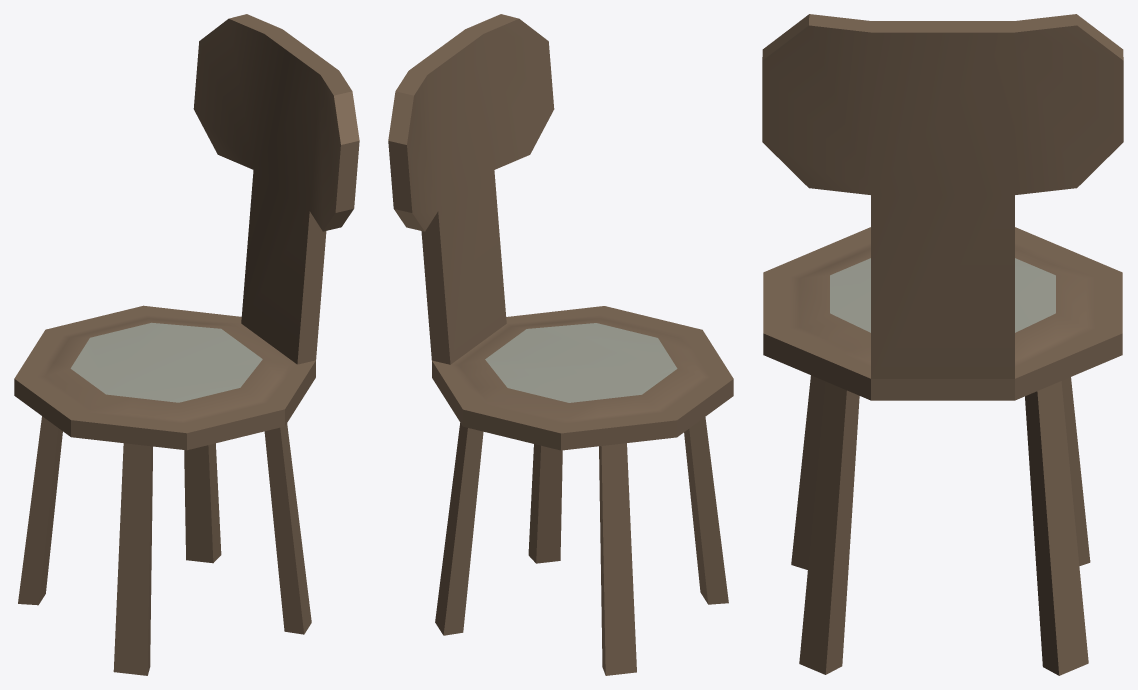
Rendered from Chair_v01.fbx.
3 views of the same model, side by side, from view 1: azimuth 30°, elevation 25°; view 2: azimuth 150°, elevation 25°; view 3: azimuth 270°, elevation 25° (orthographic). The views are drawn at different scales.
Parts seen in each view (by area): view 1: chair_bottom_geo, chair_top_geo; view 2: chair_bottom_geo, chair_top_geo; view 3: chair_top_geo, chair_bottom_geo.
Part boxes in pixels (box(x1,y1,x2,y2)): chair_bottom_geo: box(14, 305, 315, 675); chair_top_geo: box(193, 14, 359, 364); chair_bottom_geo: box(432, 306, 733, 675); chair_top_geo: box(388, 14, 554, 364); chair_top_geo: box(762, 14, 1123, 378); chair_bottom_geo: box(763, 227, 1122, 675).
Bounding box in the file's own units: 0.7871 × 1.48 × 0.7225.
